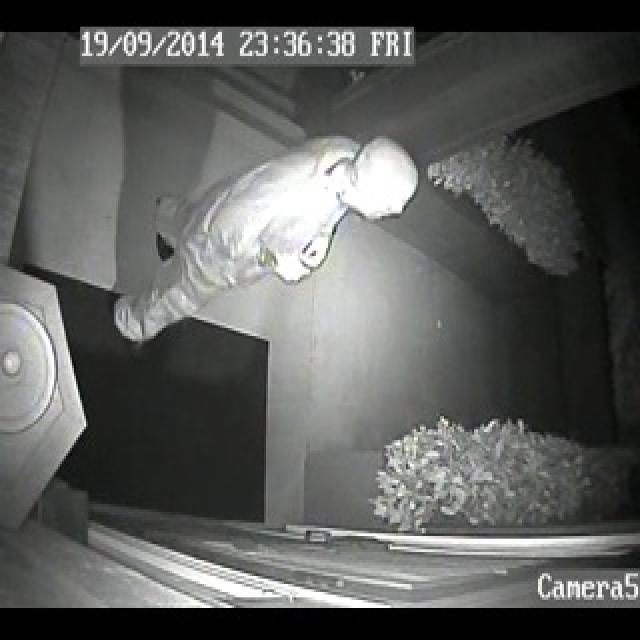thief: (111, 132, 421, 344)
